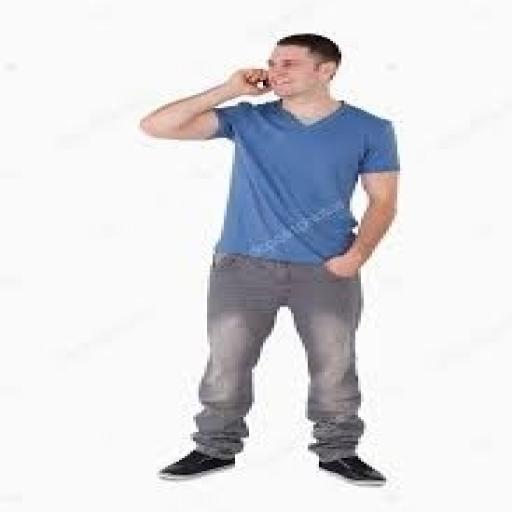calling: (134, 32, 403, 488)
